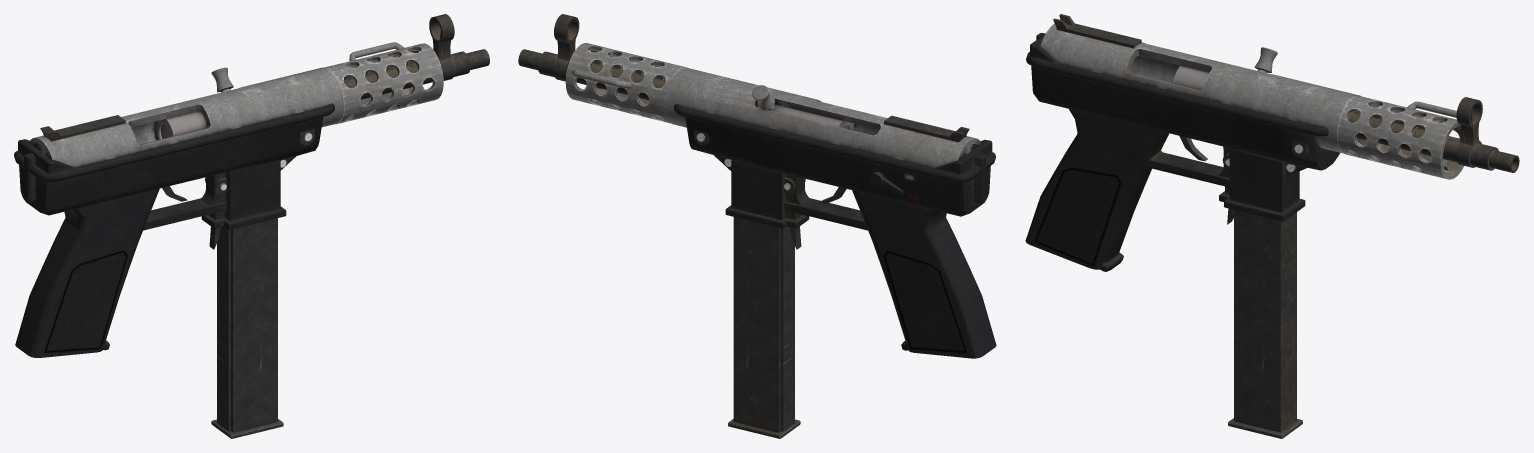
Rendered from Tec_9.fbx.
The picture shows the model from 3 angles, left to right: view 1: azimuth 30°, elevation 25°; view 2: azimuth 150°, elevation 25°; view 3: azimuth 330°, elevation 25°; orthographic projection. The views are drawn at different scales.
Parts seen in each view (by area): view 1: Body, magazine, chamber; view 2: Body, magazine, chamber; view 3: Body, magazine, chamber.
Part boxes in pixels (x1,y1,x2,y2): Body: (14,14,489,357); magazine: (211,218,283,438); chamber: (154,67,233,140); Body: (518,14,996,358); magazine: (728,217,800,438); chamber: (752,85,854,130); Body: (1025,14,1519,271); magazine: (1228,210,1302,438); chamber: (1173,47,1277,90).
Size of the model in its own units: 58.37 by 43.36 by 8.54.
